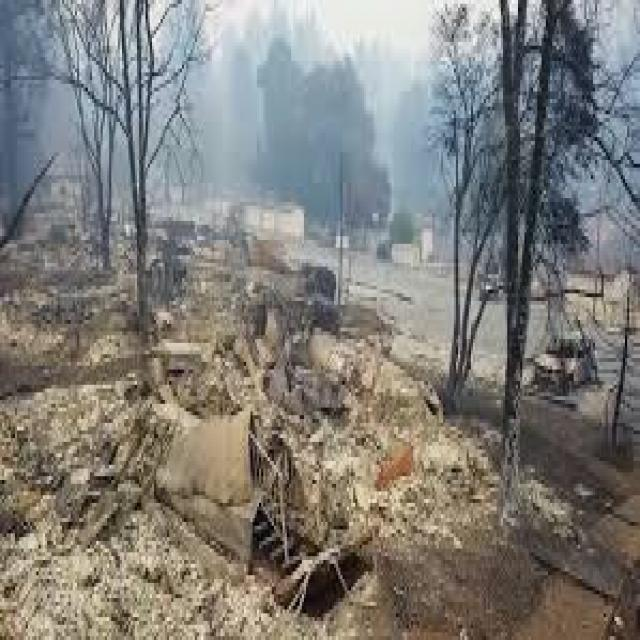Forest Fire: (121, 45, 640, 640)
